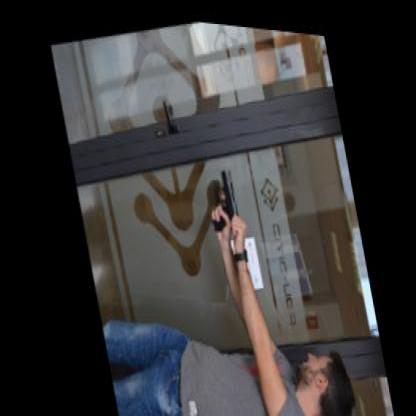pistol: (200, 160, 238, 227)
